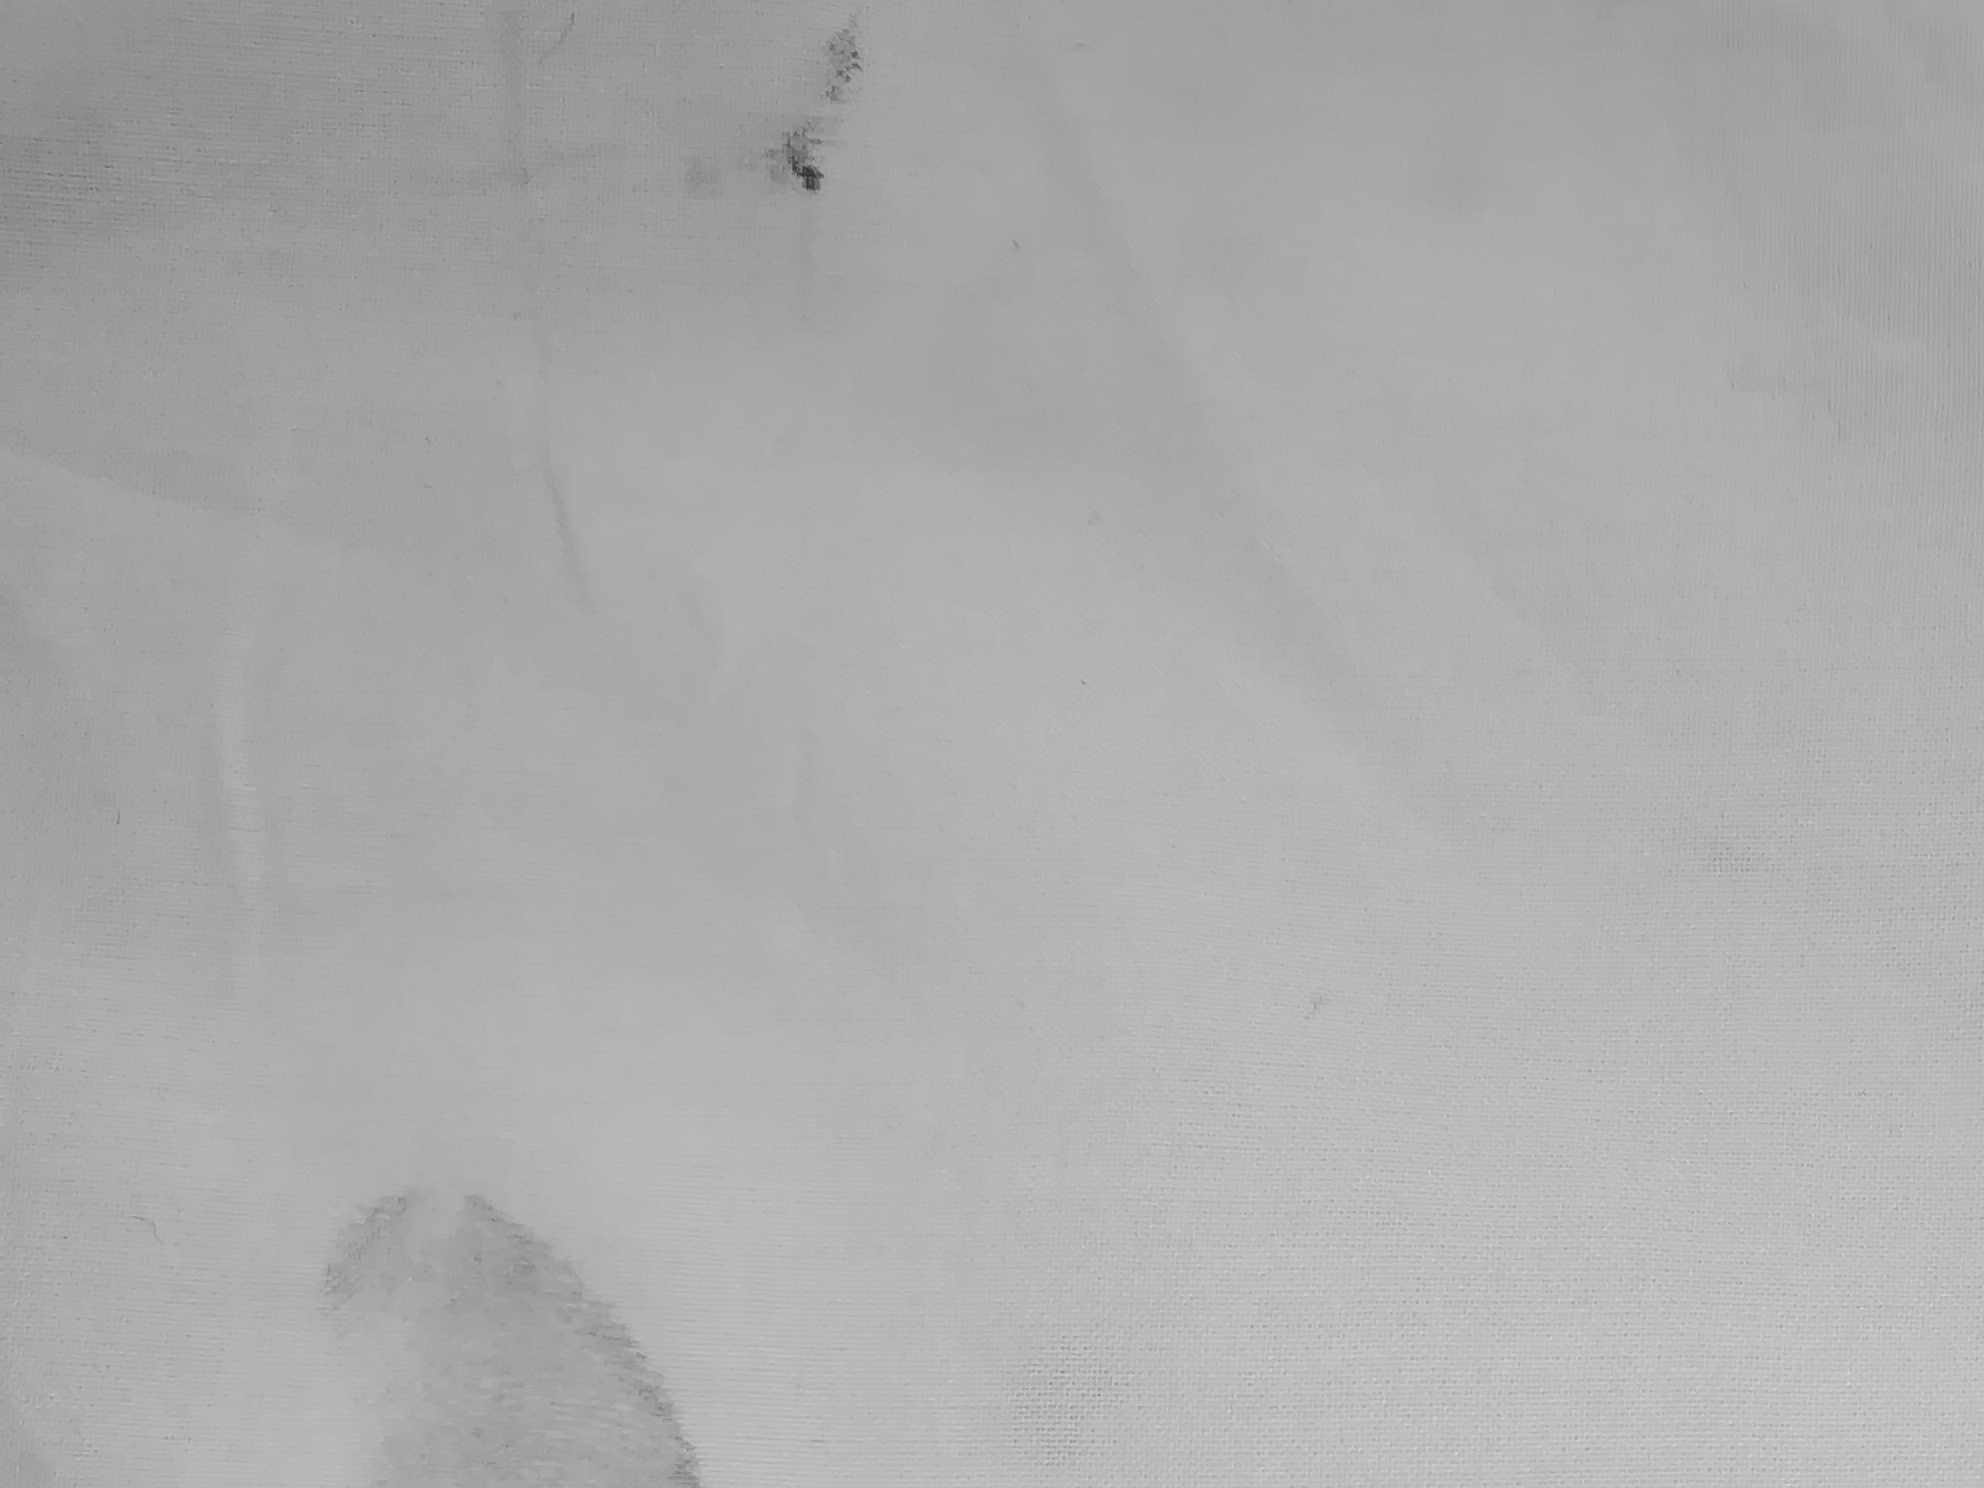Stain: (200, 1082, 831, 1488), (600, 2, 1004, 320)
